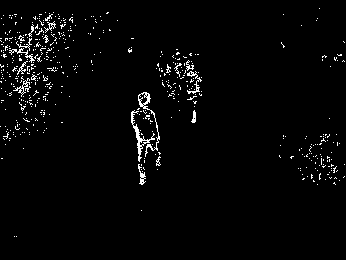person: (129, 90, 167, 189)
